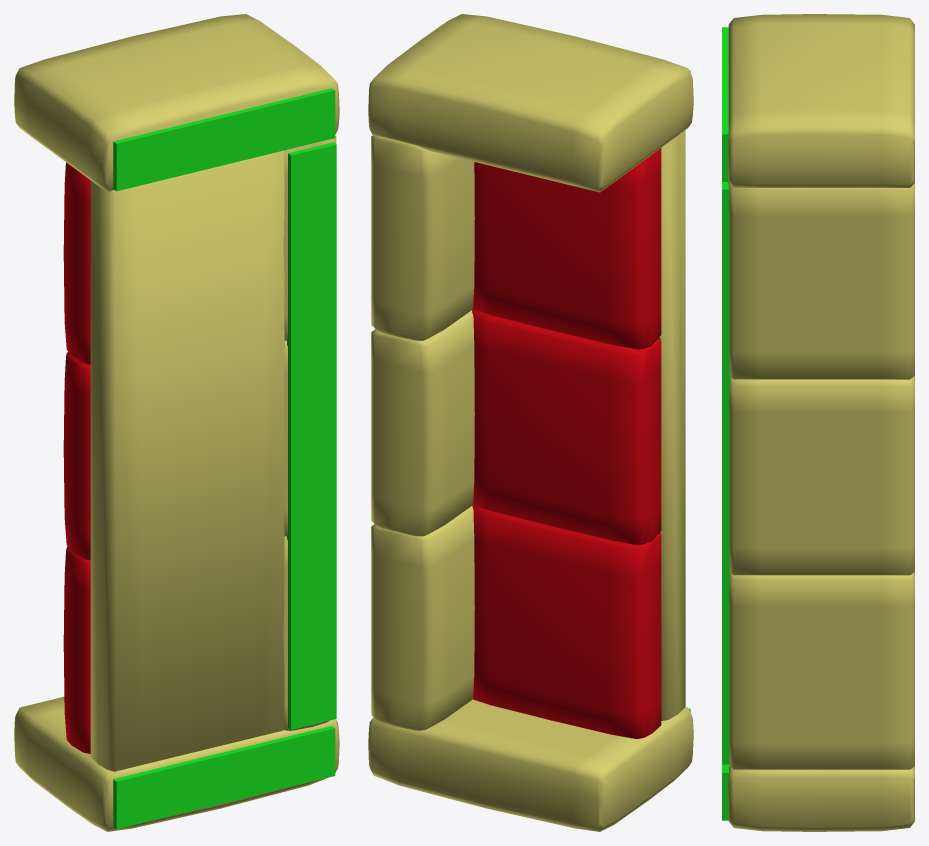
File: sofa_4.FBX
3 renders of one model, left to right at view 1: azimuth 30°, elevation 25°; view 2: azimuth 150°, elevation 25°; view 3: azimuth 270°, elevation 25°, orthographic.
Visible parts, largest first — view 1: left; view 2: left; view 3: left.
Boxes of the visible parts, left/top/right/bottom form: left: left=14, top=14, right=339, bottom=831; left: left=368, top=14, right=693, bottom=831; left: left=722, top=14, right=914, bottom=831.
Size of the model in its own units: 94.59 by 273 by 66.59.
